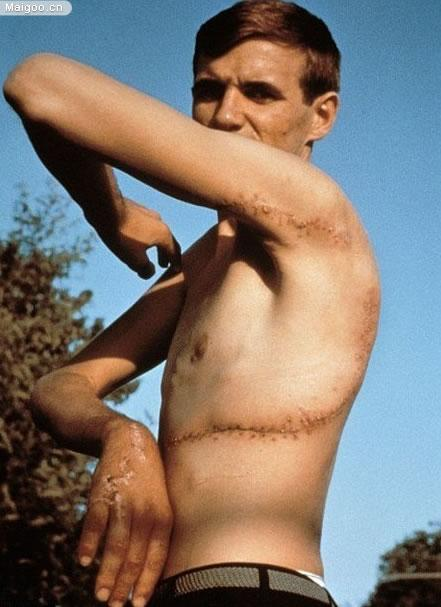face: (190, 34, 307, 195)
